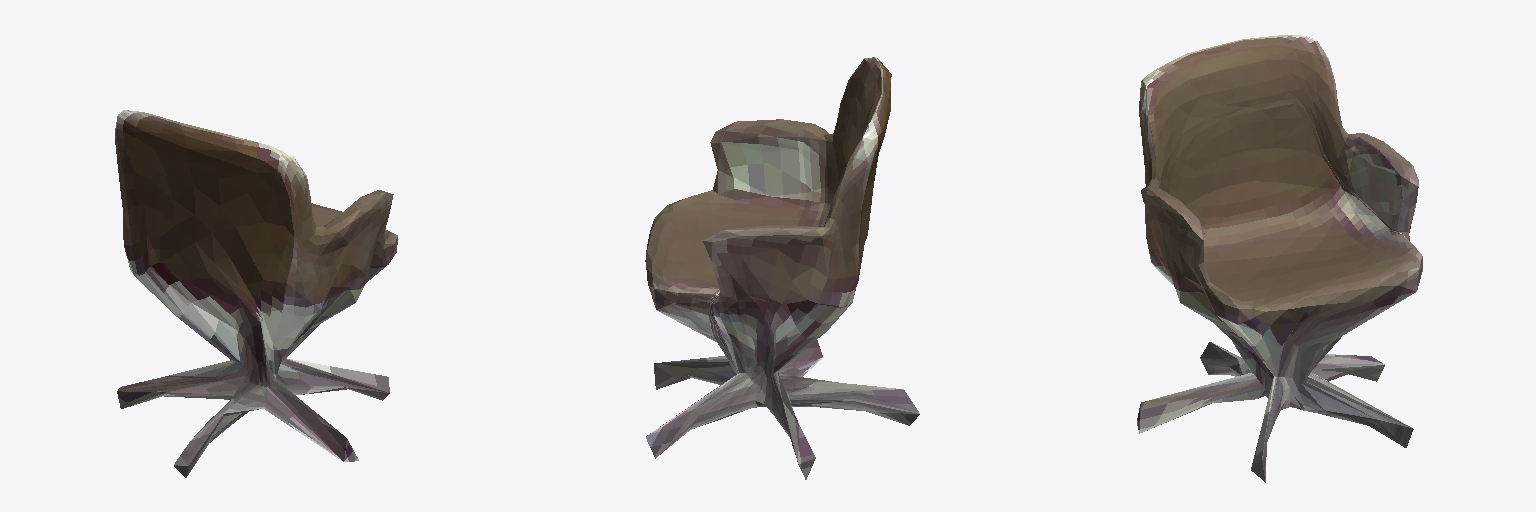
3 renders of one model, left to right at view 1: azimuth 30°, elevation 25°; view 2: azimuth 150°, elevation 25°; view 3: azimuth 270°, elevation 25°, orthographic.
Bounding box in the file's own units: 0.7586 × 1 × 0.7624.
Materials: 1 (1 with a texture image).